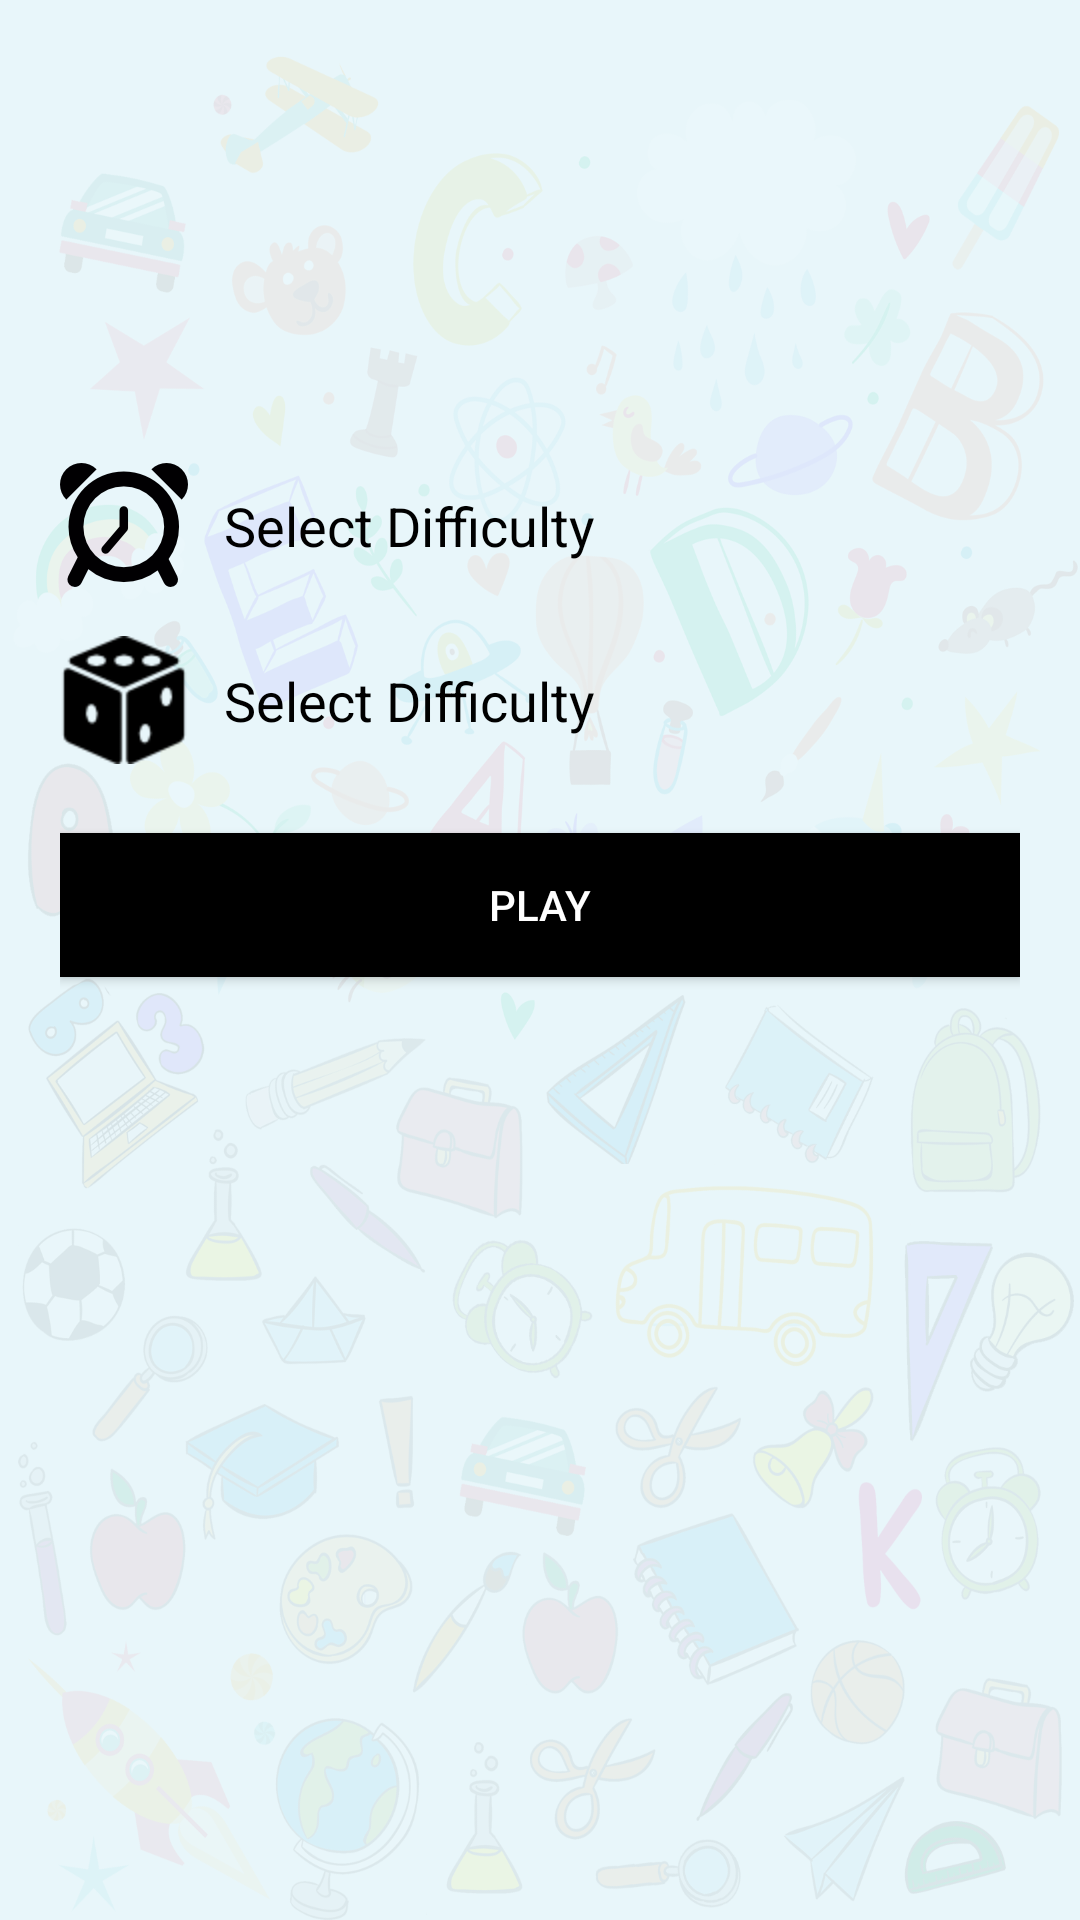

Where to tap for icons on this 1080x1920 app screen, as point (x, y):
time: point (124, 525)
